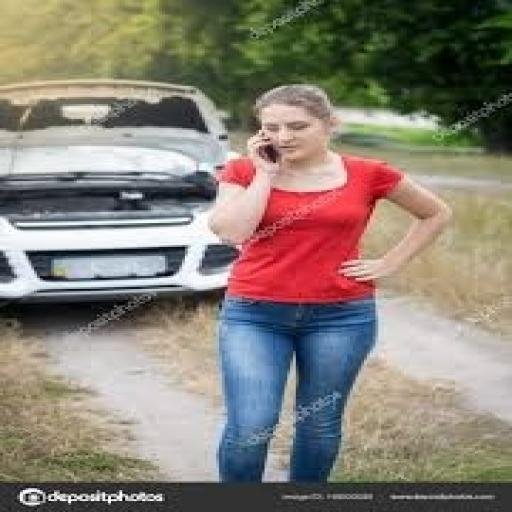calling: (202, 82, 455, 483)
